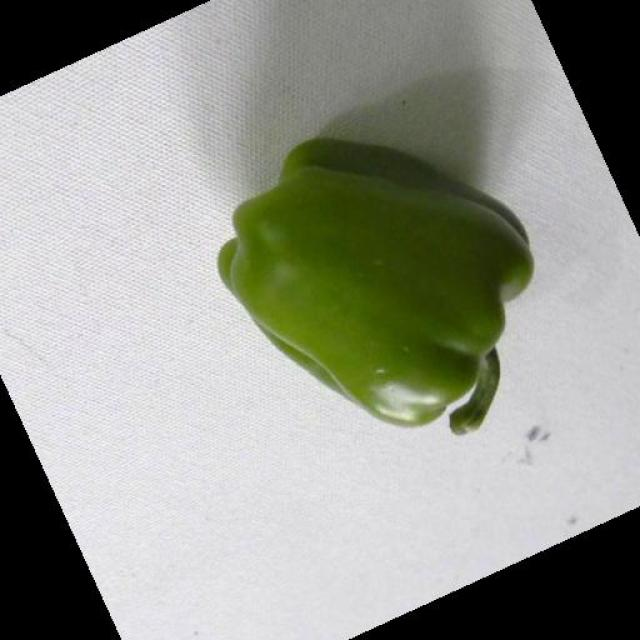Fresh_Capsicum: (194, 125, 524, 473)
